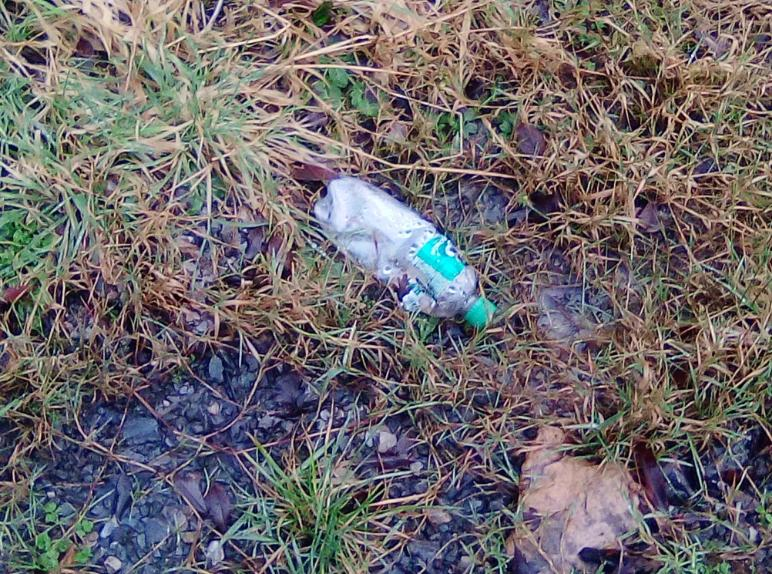bottle: (311, 160, 504, 351)
